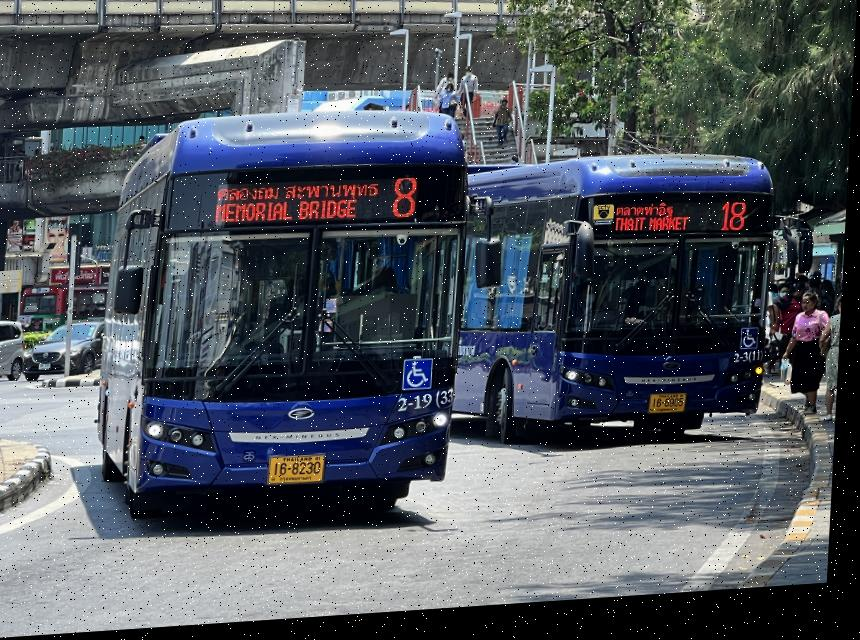Bus Line Number: (386, 172, 427, 233), (714, 203, 761, 251)
Bus Side Number: (398, 396, 460, 419), (736, 358, 773, 376)
Destination Sign: (212, 173, 389, 241), (608, 203, 699, 252)
TSB-Bus: (99, 113, 471, 520), (458, 163, 782, 452)
